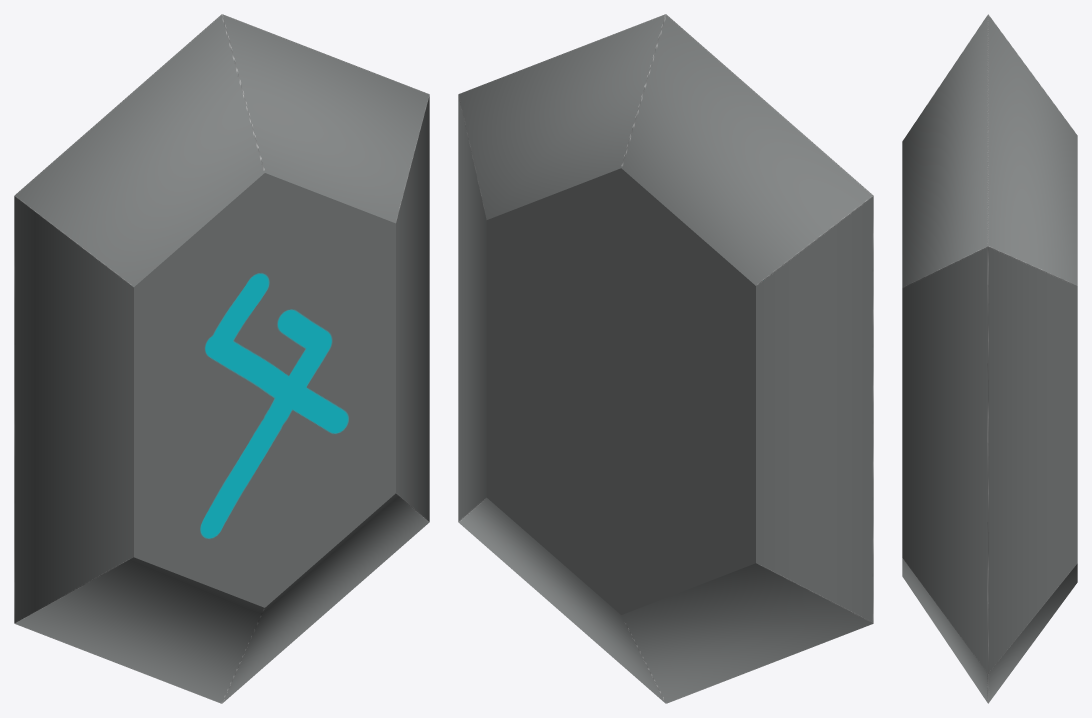
The model's file is pattern_b5.fbx.
3 views of the same model, side by side, from view 1: azimuth 30°, elevation 25°; view 2: azimuth 150°, elevation 25°; view 3: azimuth 270°, elevation 25° (orthographic).
Parts seen in each view (by area): view 1: pattern_b5_GEO; view 2: pattern_b5_GEO; view 3: pattern_b5_GEO.
Part boxes in pixels (left/top/right/bottom): pattern_b5_GEO: left=14, top=14, right=429, bottom=703; pattern_b5_GEO: left=458, top=14, right=873, bottom=703; pattern_b5_GEO: left=902, top=14, right=1077, bottom=703.
Bounding box in the file's own units: 1.41 × 2.24 × 0.5148.
